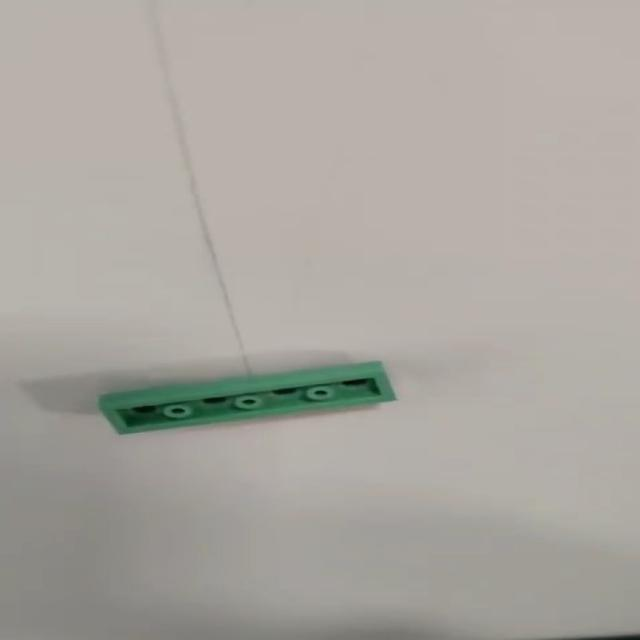C4x1x0: (52, 358, 397, 436)
